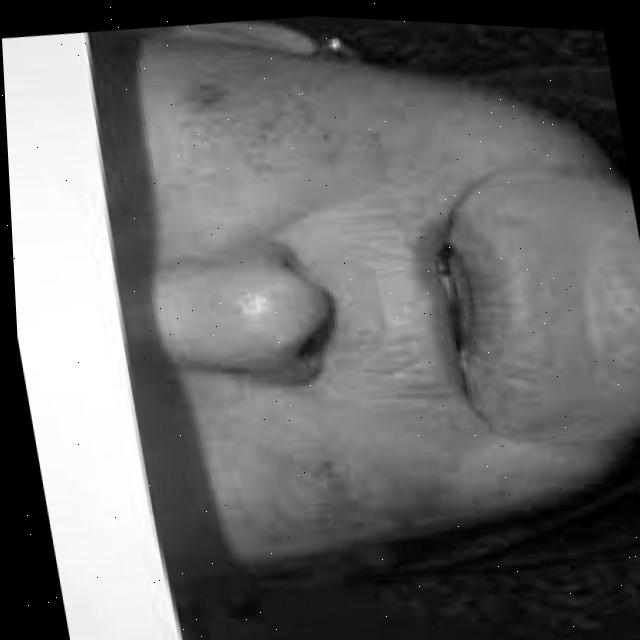Rosacea: (226, 452, 442, 565), (183, 53, 362, 187)
